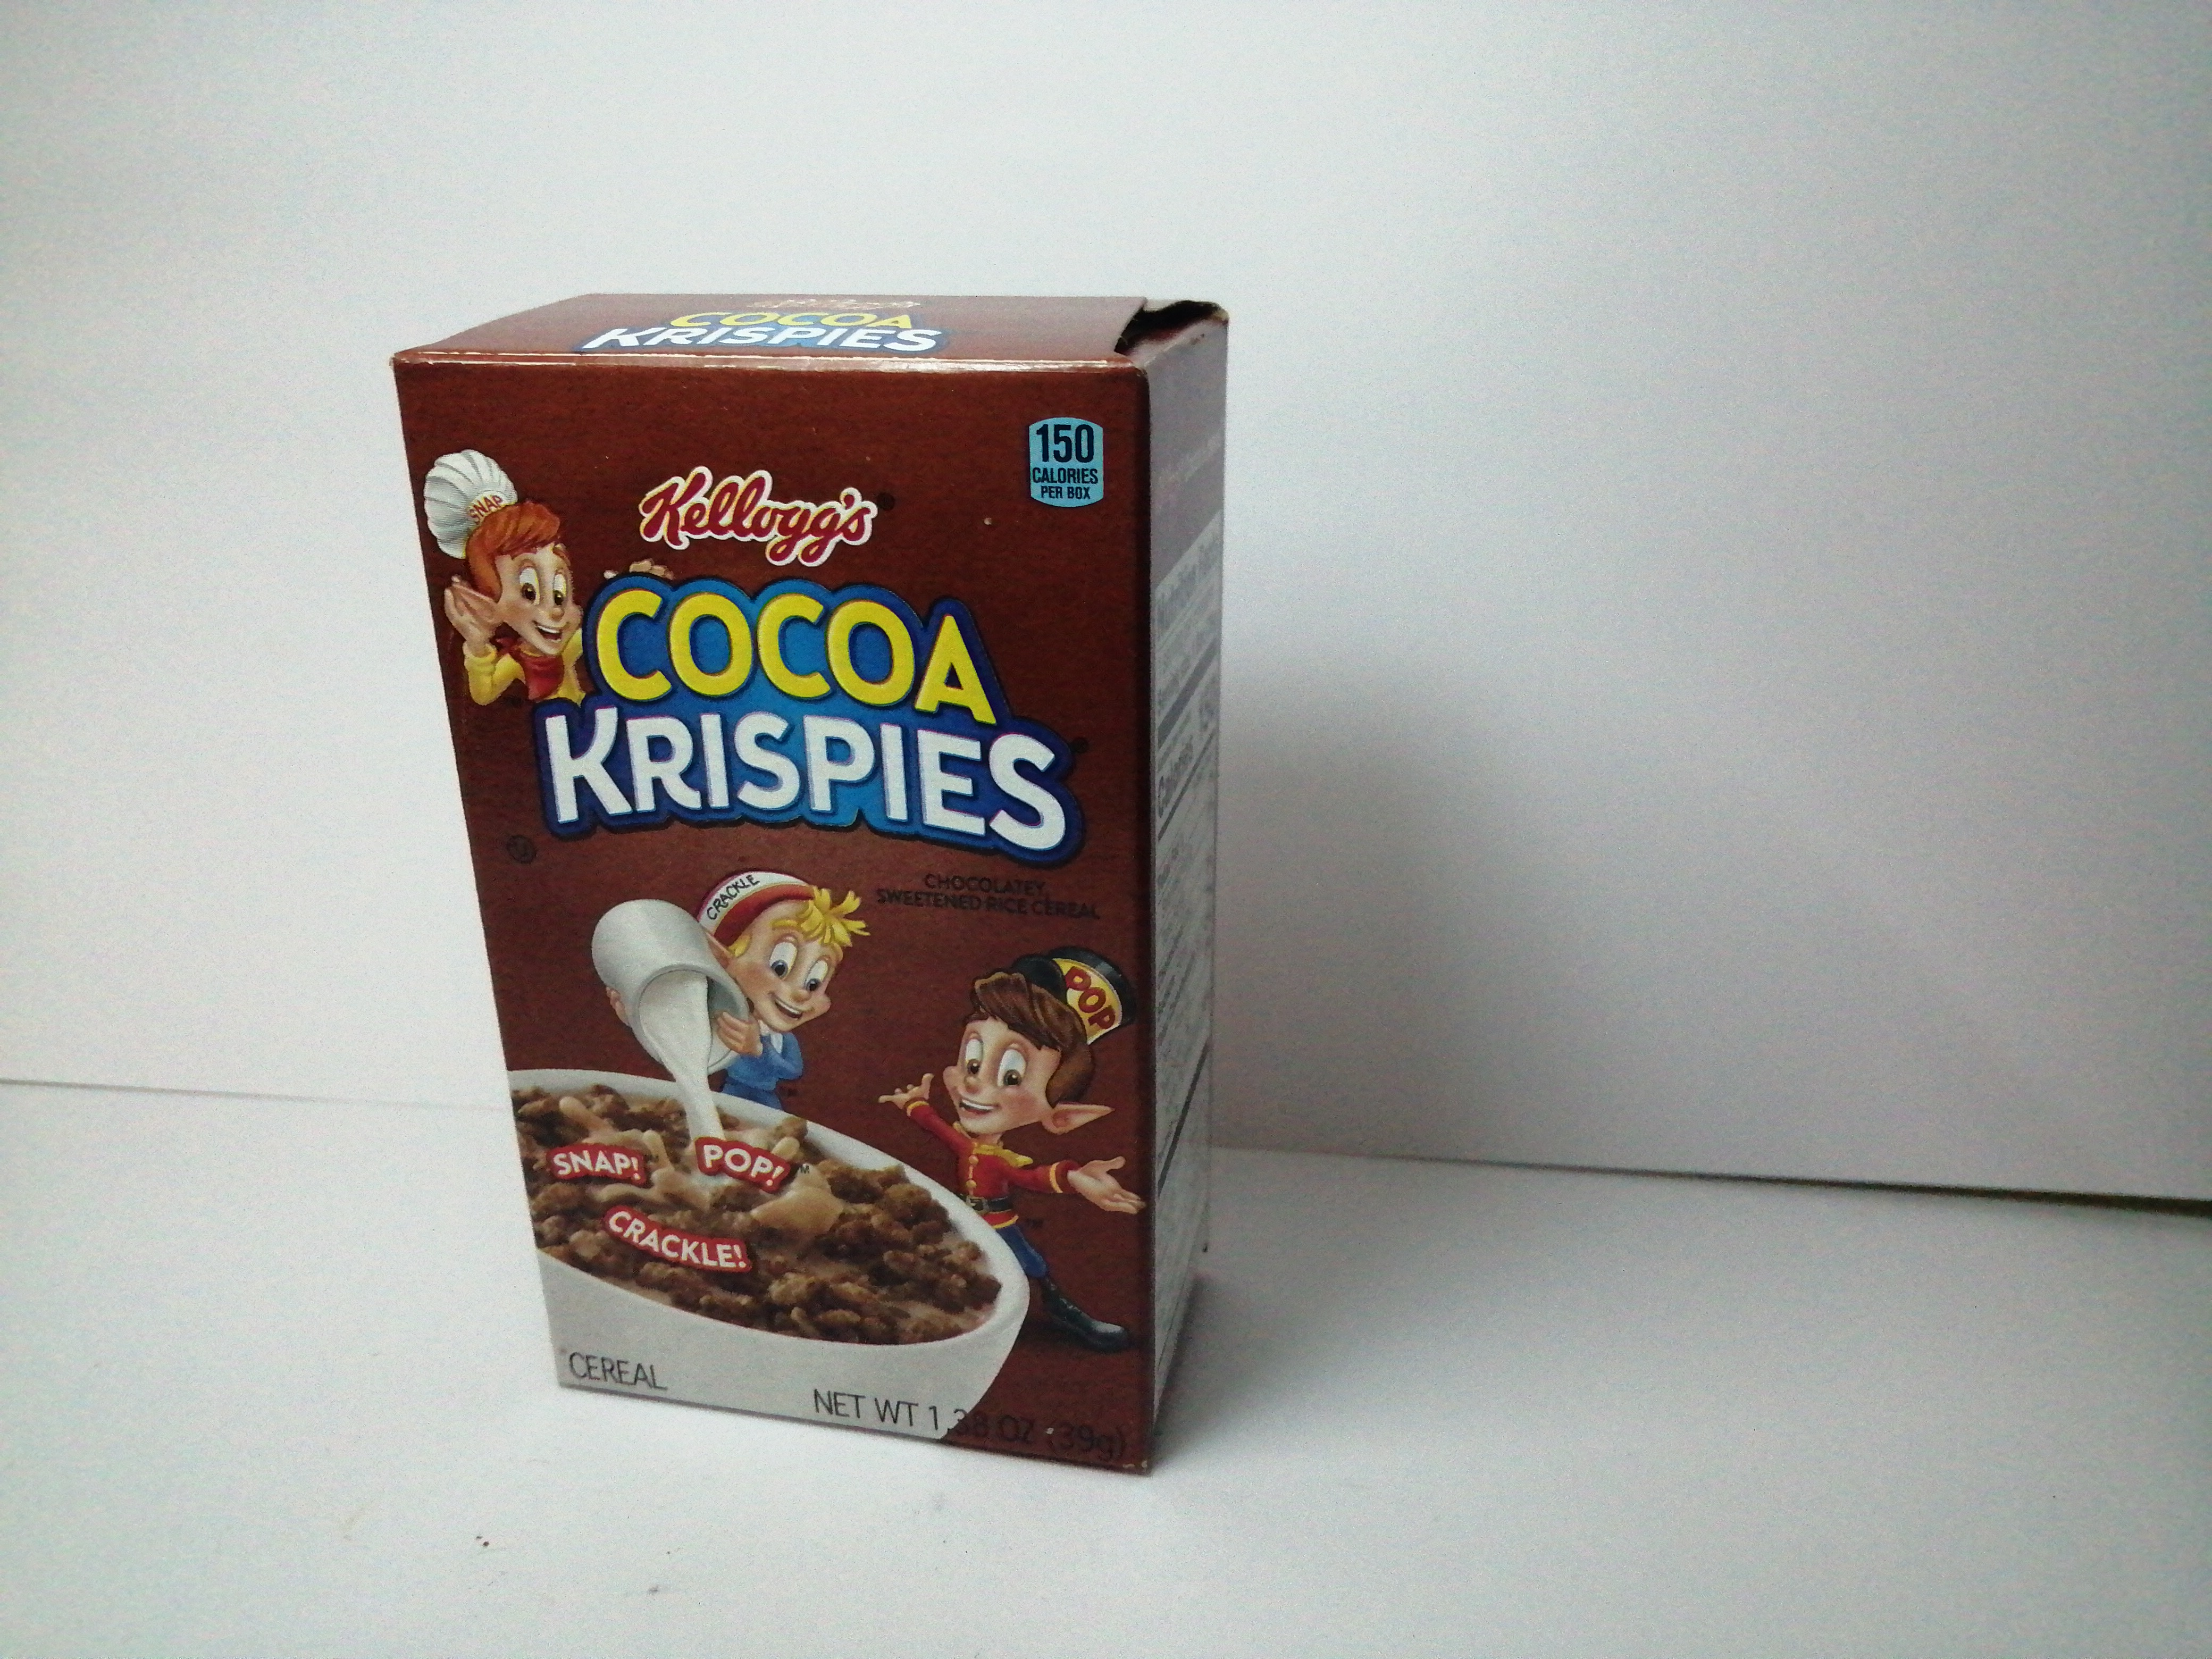cereal chocolate: (371, 263, 1275, 1473)
